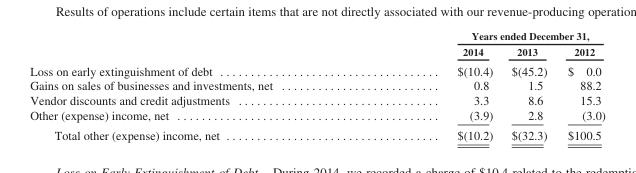table: (29, 29, 604, 141)
table column: (29, 29, 364, 141), (364, 29, 501, 141), (501, 29, 556, 141), (556, 29, 604, 141)
table column header: (29, 29, 604, 60)
table row: (29, 43, 604, 60), (29, 60, 604, 77), (29, 107, 604, 124), (29, 124, 604, 141), (29, 77, 604, 92), (29, 92, 604, 107), (29, 29, 604, 43)
table spanning cell: (364, 29, 604, 43)
